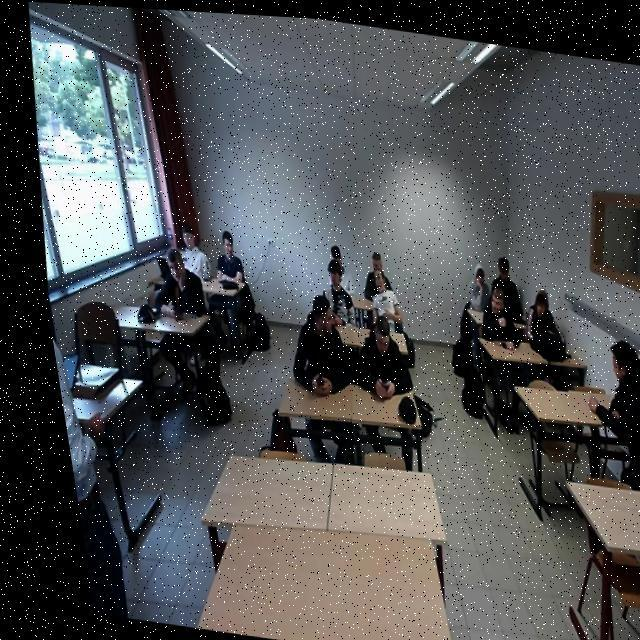phone_use: (292, 295, 352, 394), (358, 318, 410, 397), (491, 256, 521, 321)
